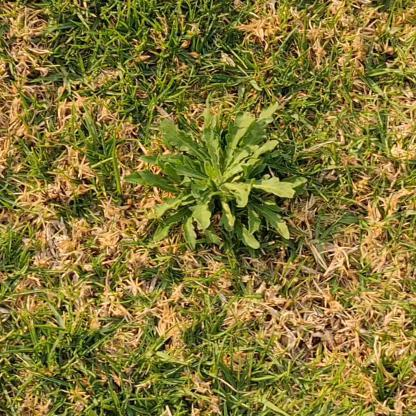Weeds: (121, 104, 309, 249)
